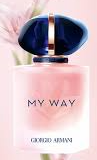armani_my_way_floral: (10, 11, 91, 154)
